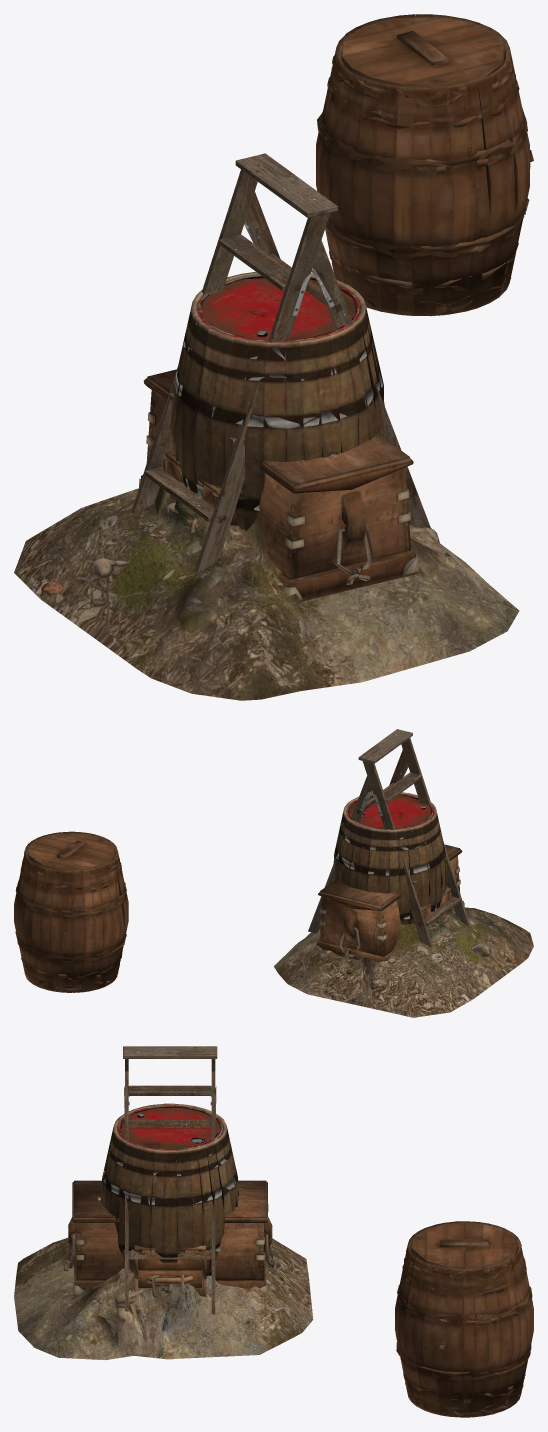
The model's file is village-props-v4-lite.glb.
The picture shows the model from 3 angles, top to bottom: view 1: azimuth 30°, elevation 25°; view 2: azimuth 150°, elevation 25°; view 3: azimuth 270°, elevation 25°; orthographic projection. The views are drawn at different scales.
Visible parts, largest first — view 1: tree_stump_01, wooden_barrels_01_barrel01, wine_barrel_01, wooden_crate_02_crate, wooden_ladder_steps, Barrel_01, wooden_crate_02_lid, wooden_ladder_supports, wooden_crate_01; view 2: wooden_barrels_01_barrel01, tree_stump_01, wine_barrel_01, wooden_ladder_steps, wooden_crate_02_crate, Barrel_01, wooden_crate_02_lid, wooden_ladder_supports; view 3: wooden_barrels_01_barrel01, tree_stump_01, wine_barrel_01, wooden_crate_02_crate, wooden_ladder_supports, Barrel_01, wooden_crate_02_lid, wooden_crate_01, wooden_ladder_steps.
Part boxes in pixels (x1,y1,x2,y2): tree_stump_01: [14, 485, 519, 700]; wooden_barrels_01_barrel01: [316, 14, 533, 316]; wine_barrel_01: [170, 271, 384, 531]; wooden_crate_02_crate: [139, 390, 418, 601]; wooden_ladder_steps: [131, 153, 337, 572]; Barrel_01: [197, 274, 359, 342]; wooden_crate_02_lid: [143, 369, 413, 493]; wooden_ladder_supports: [244, 191, 430, 528]; wooden_crate_01: [163, 459, 238, 533]; wooden_barrels_01_barrel01: [14, 831, 128, 992]; tree_stump_01: [274, 887, 533, 1017]; wine_barrel_01: [333, 792, 447, 924]; wooden_ladder_steps: [358, 729, 470, 947]; wooden_crate_02_crate: [315, 855, 464, 966]; Barrel_01: [346, 793, 433, 829]; wooden_crate_02_lid: [318, 844, 462, 910]; wooden_ladder_supports: [308, 749, 408, 933]; wooden_barrels_01_barrel01: [395, 1221, 533, 1417]; tree_stump_01: [14, 1237, 313, 1360]; wine_barrel_01: [100, 1103, 239, 1276]; wooden_crate_02_crate: [64, 1217, 279, 1296]; wooden_ladder_supports: [124, 1071, 216, 1314]; Barrel_01: [117, 1105, 222, 1150]; wooden_crate_02_lid: [72, 1180, 268, 1222]; wooden_crate_01: [134, 1250, 206, 1298]; wooden_ladder_steps: [123, 1046, 217, 1108].
Size of the model in its own units: 2.79 by 1.55 by 2.76.
13 materials, 13 textured.
